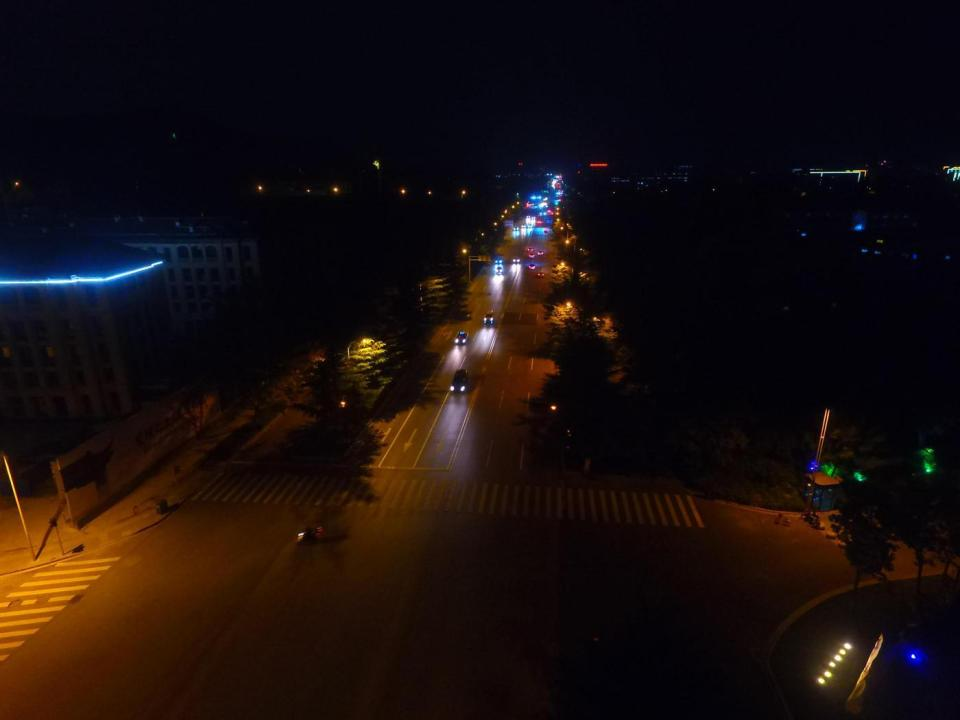car: (449, 369, 468, 394), (455, 330, 469, 345), (482, 310, 494, 326), (494, 267, 504, 275), (494, 256, 504, 264), (512, 256, 520, 264), (538, 270, 545, 278), (528, 253, 536, 259), (529, 264, 536, 270), (528, 246, 534, 252), (537, 250, 544, 255), (513, 226, 519, 231), (520, 224, 526, 228), (542, 228, 548, 232), (527, 224, 532, 228)
